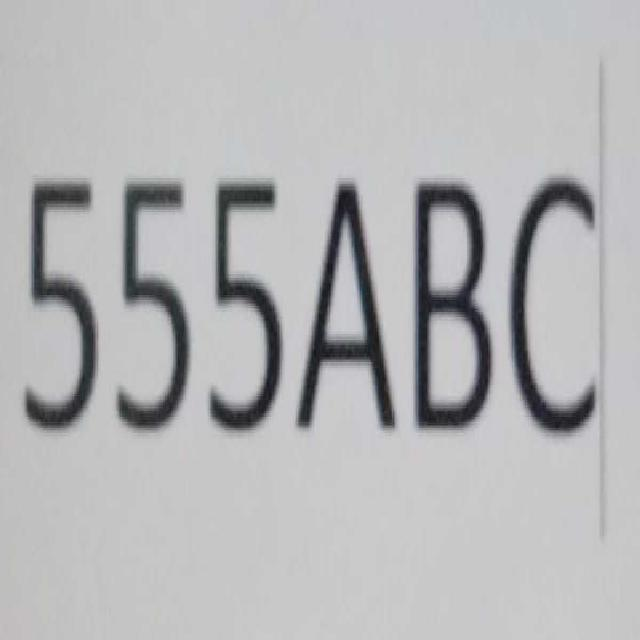license_plate: (16, 136, 601, 467)
